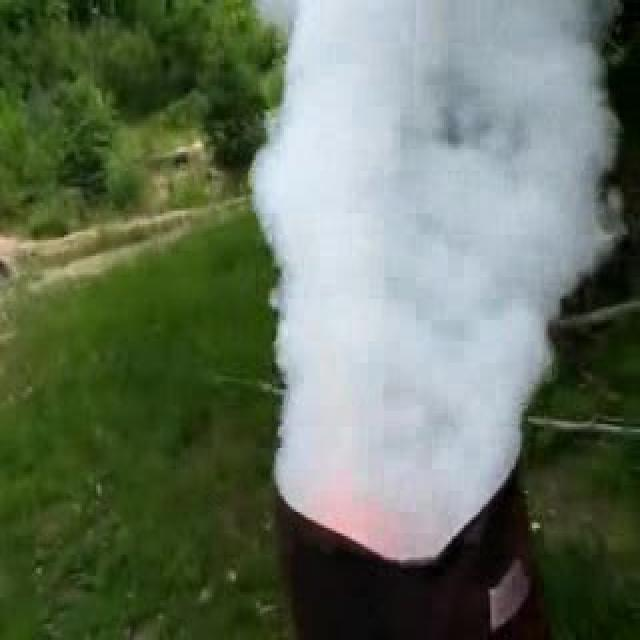Smoke: (244, 0, 631, 569)
